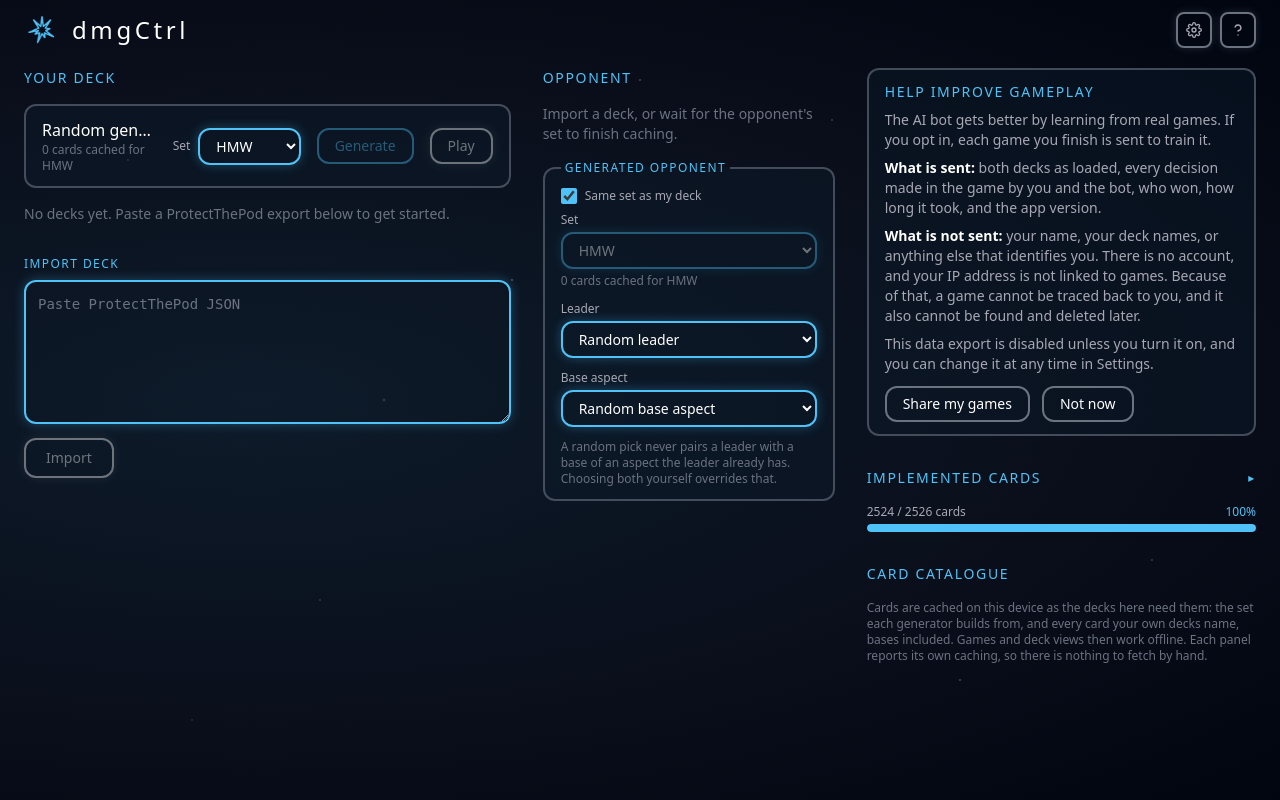
Scenario: App shell › keeps a setting changed from the header, across screens
Click the button named "settings" at (1194, 30), box [1176,12,1212,48]
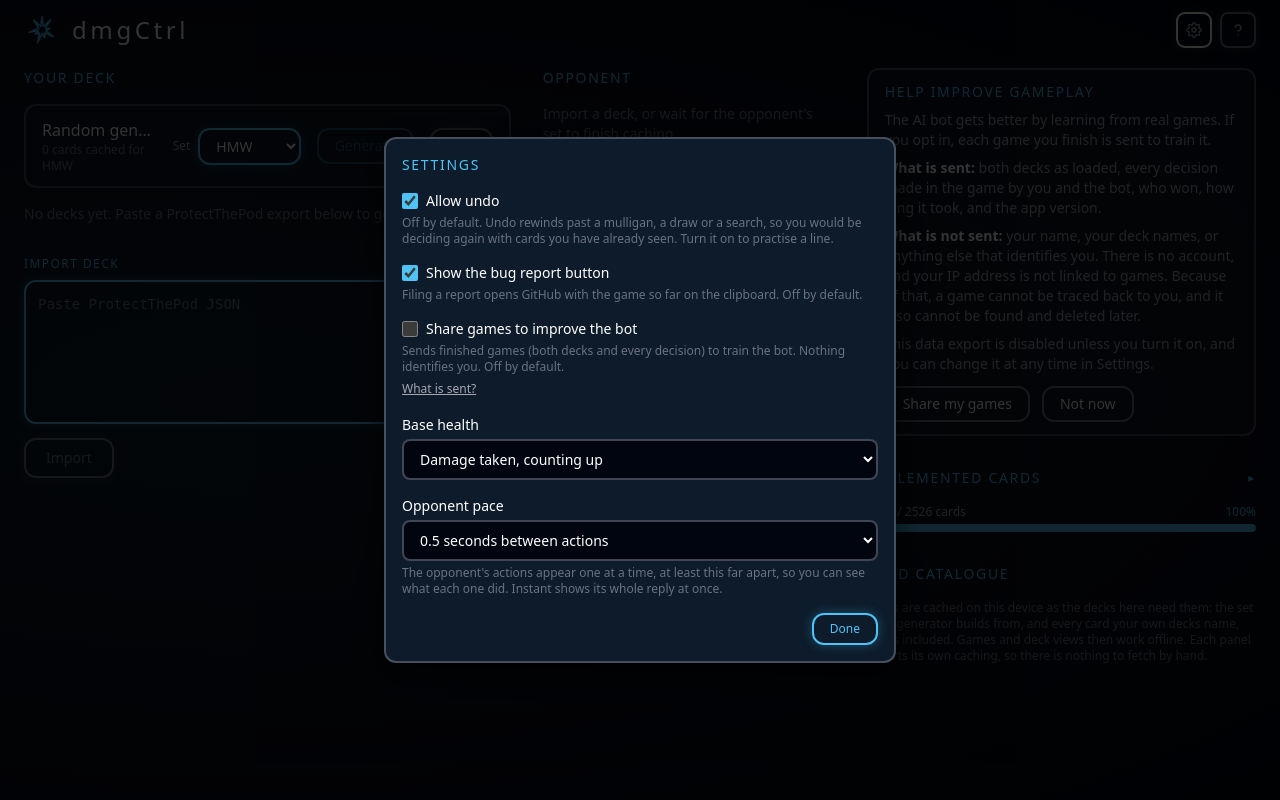
Select "Health remaining, counting down" in the dropdown with test id "setting-base-health" at (640, 460), box [402,439,878,480]
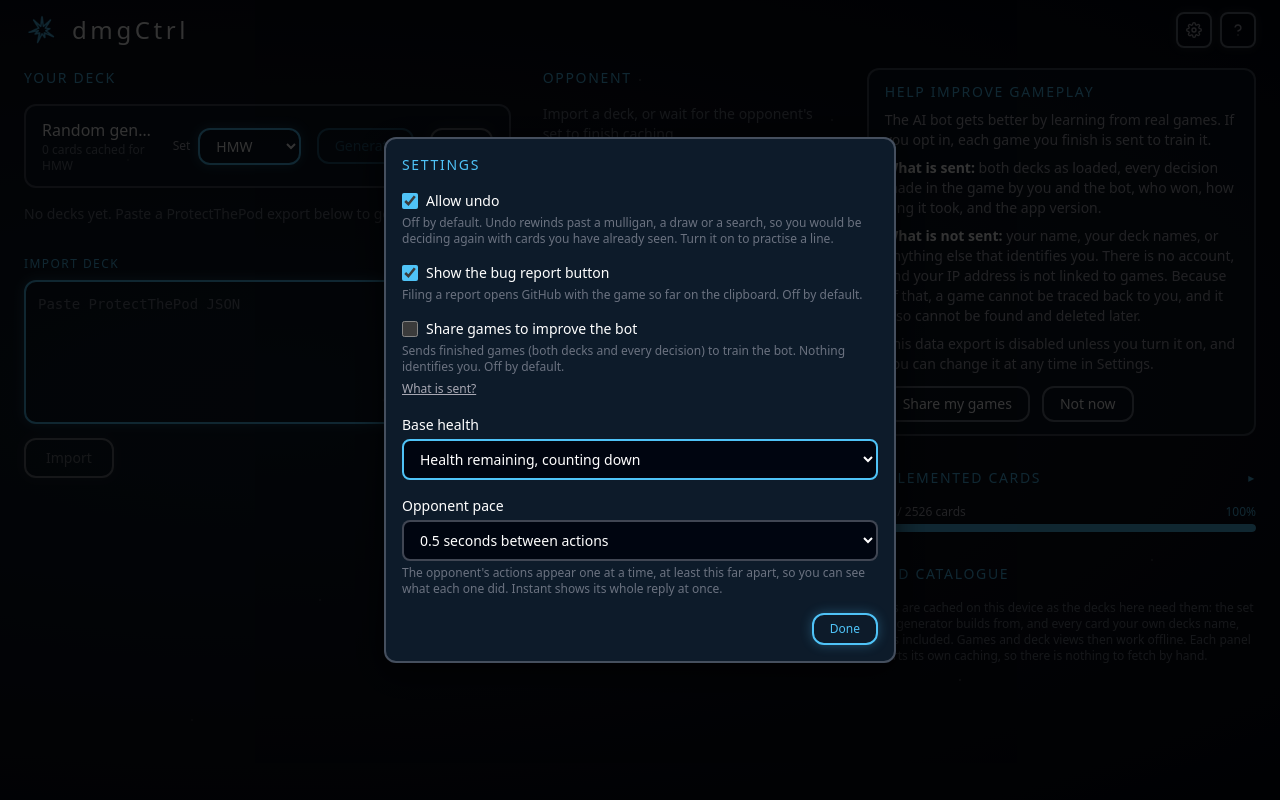
Click the button with test id "settings-close" at (845, 629), box [812,613,878,645]
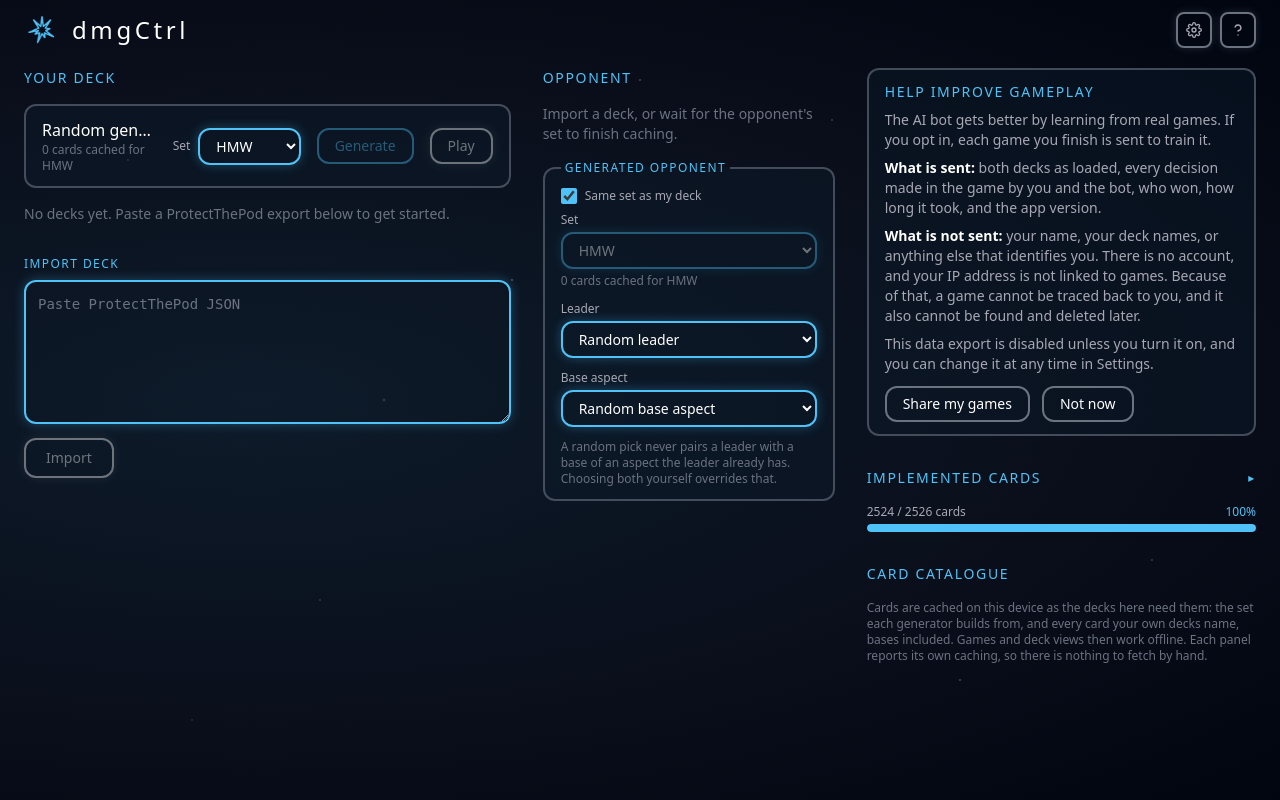
Click the button named "help" at (1238, 30), box [1220,12,1256,48]
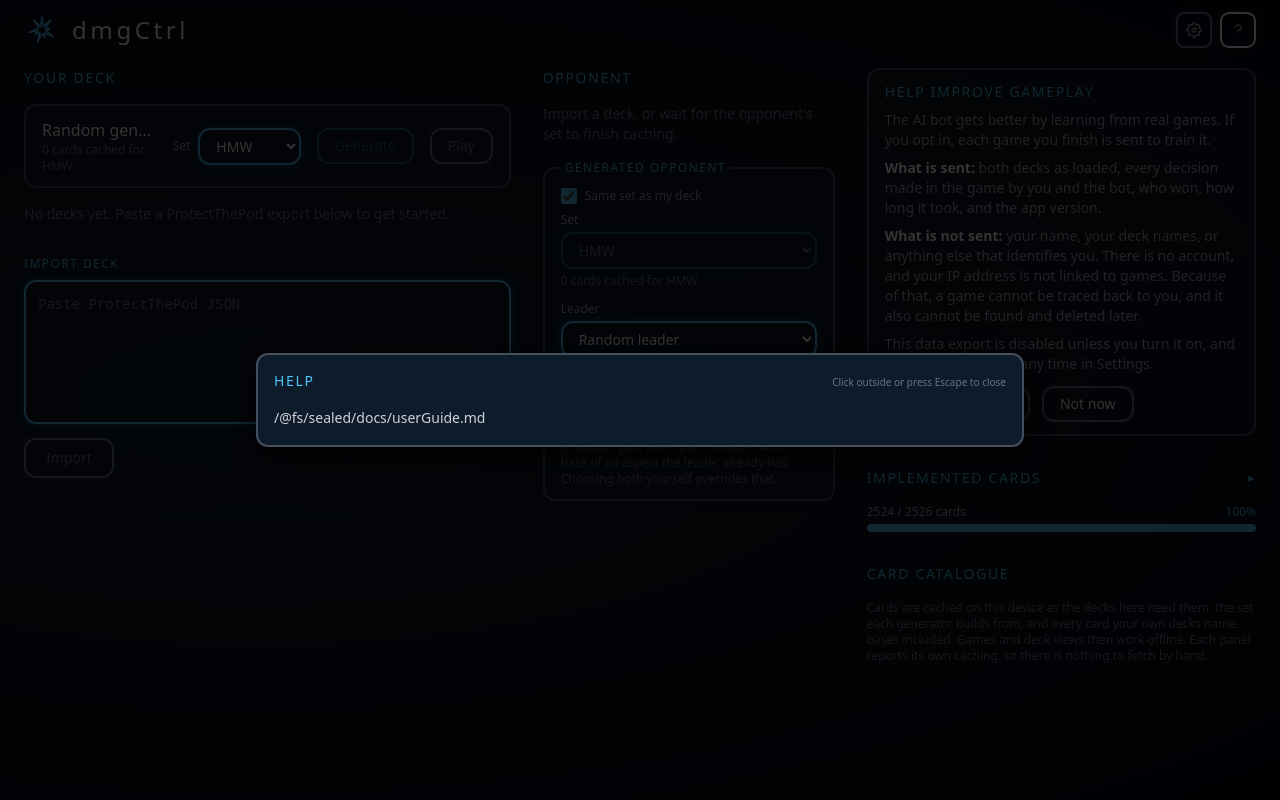
Click the element with test id "help-overlay" at (640, 400), box [0,0,1279,799]
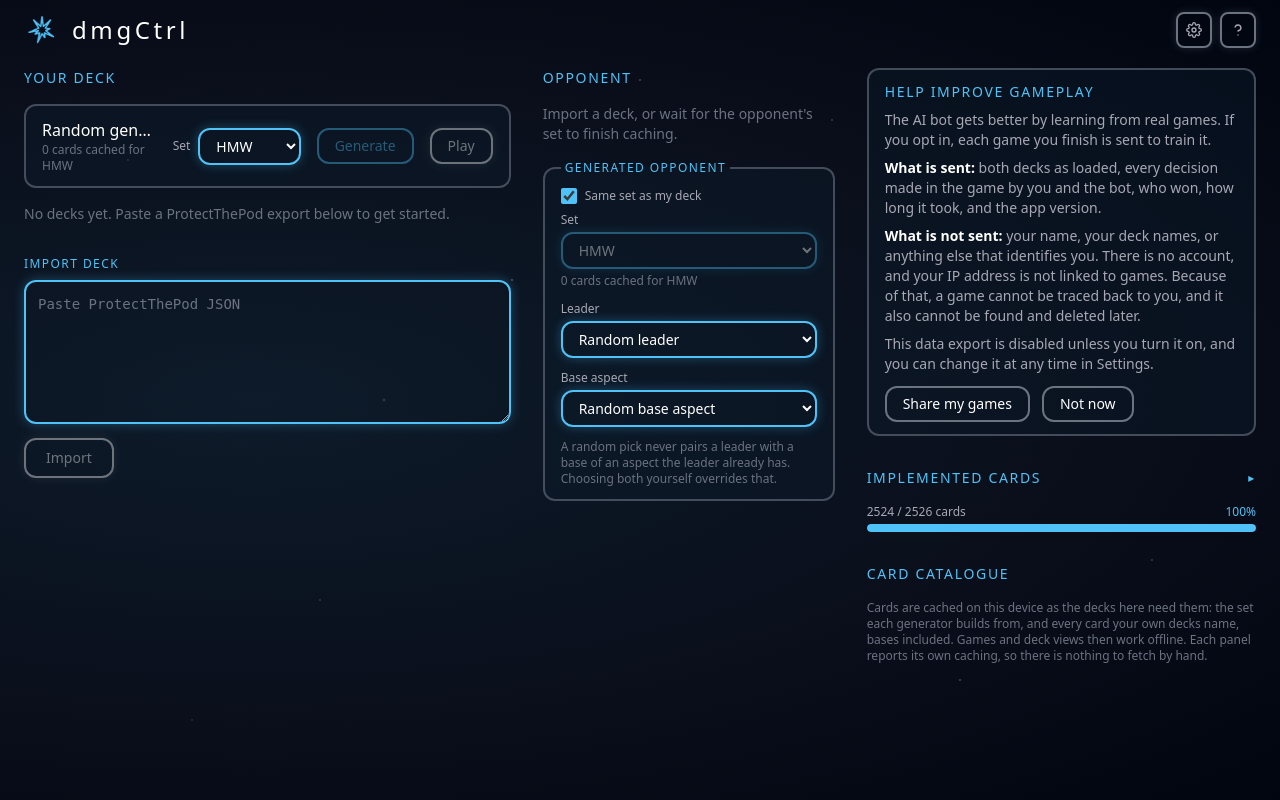
Click the button named "settings" at (1194, 30), box [1176,12,1212,48]
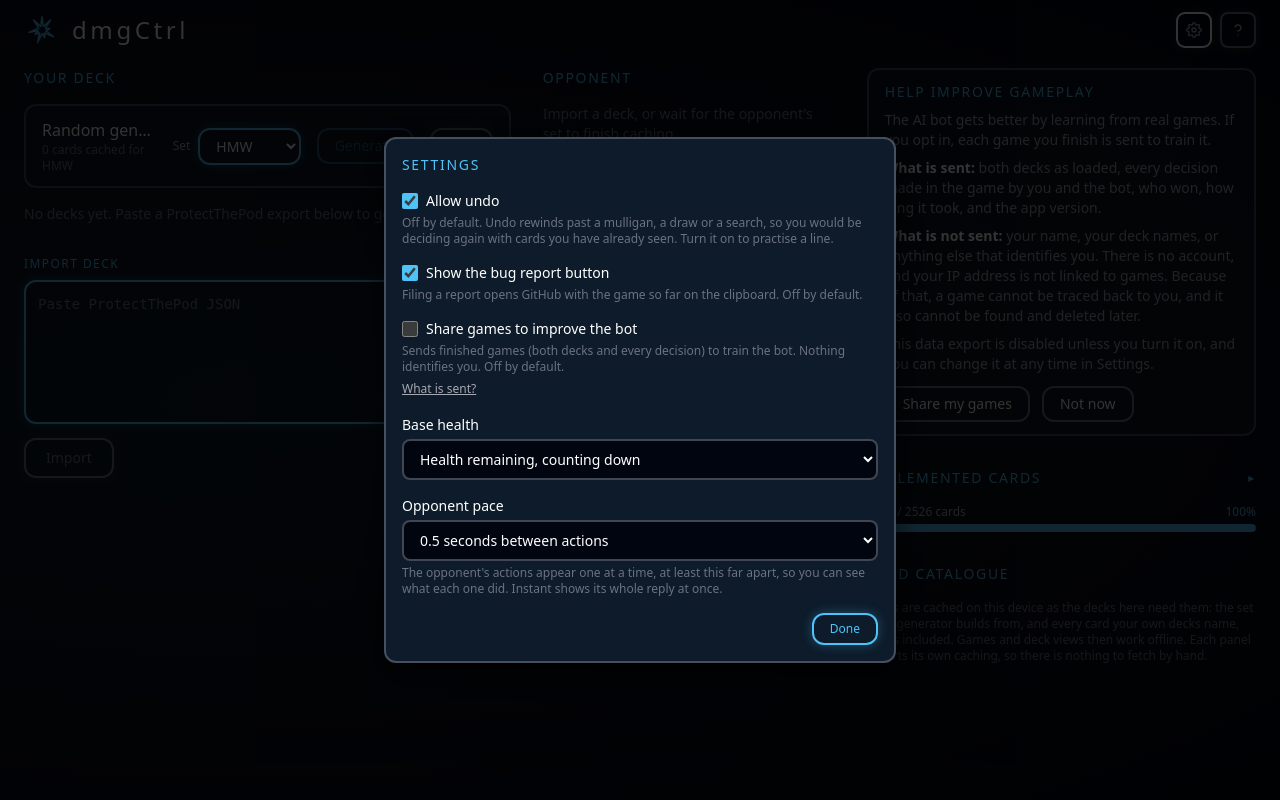
Now the dropdown with test id "setting-base-health" shows "Health remaining, counting down", box [402,439,878,480]
